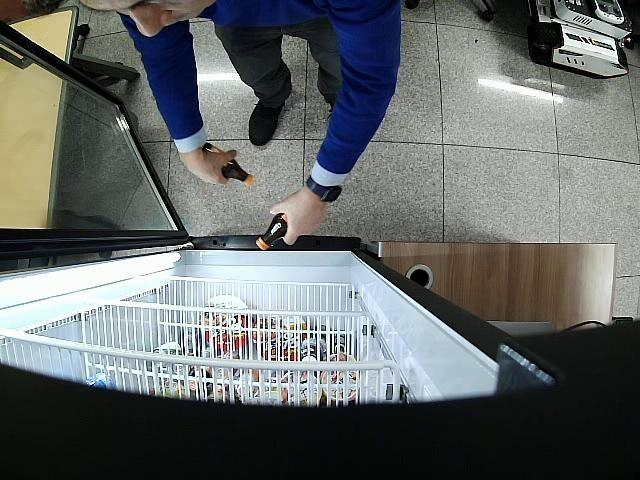17_vita500: (202, 142, 255, 184), (256, 213, 286, 250)
